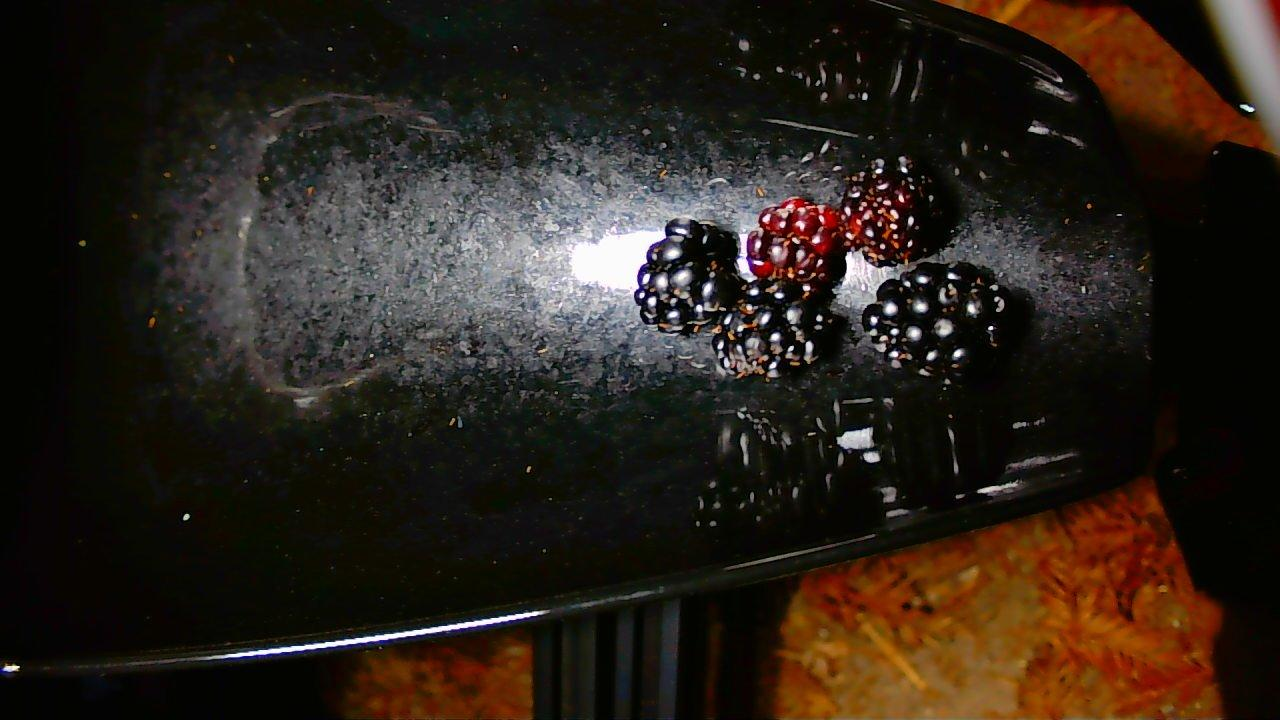berry: (863, 262, 1013, 379), (633, 217, 742, 333), (712, 279, 835, 377), (838, 156, 940, 265), (746, 197, 847, 290)
